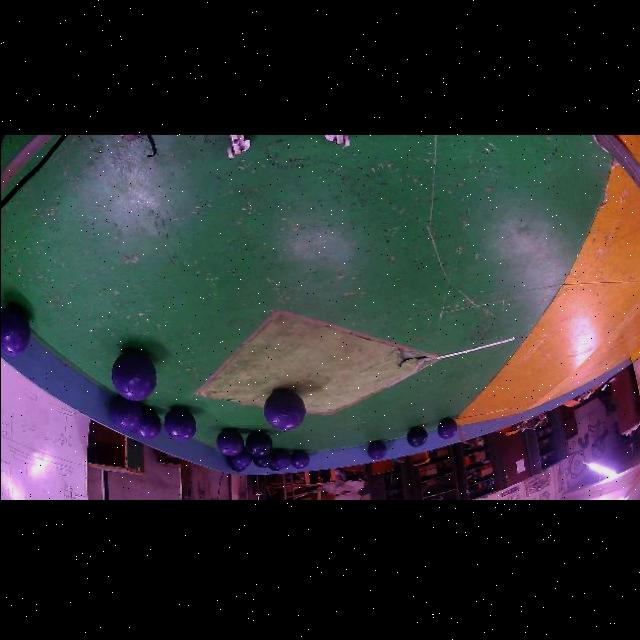B: (244, 430, 271, 457), (406, 426, 426, 447), (224, 456, 243, 472), (252, 453, 272, 468)
P: (111, 350, 155, 401), (263, 390, 304, 430), (0, 305, 30, 357), (163, 407, 195, 440), (110, 396, 141, 430), (134, 407, 161, 439), (215, 429, 243, 456), (229, 447, 251, 468), (436, 418, 456, 439), (366, 440, 385, 459), (272, 449, 290, 468), (290, 450, 309, 468)
